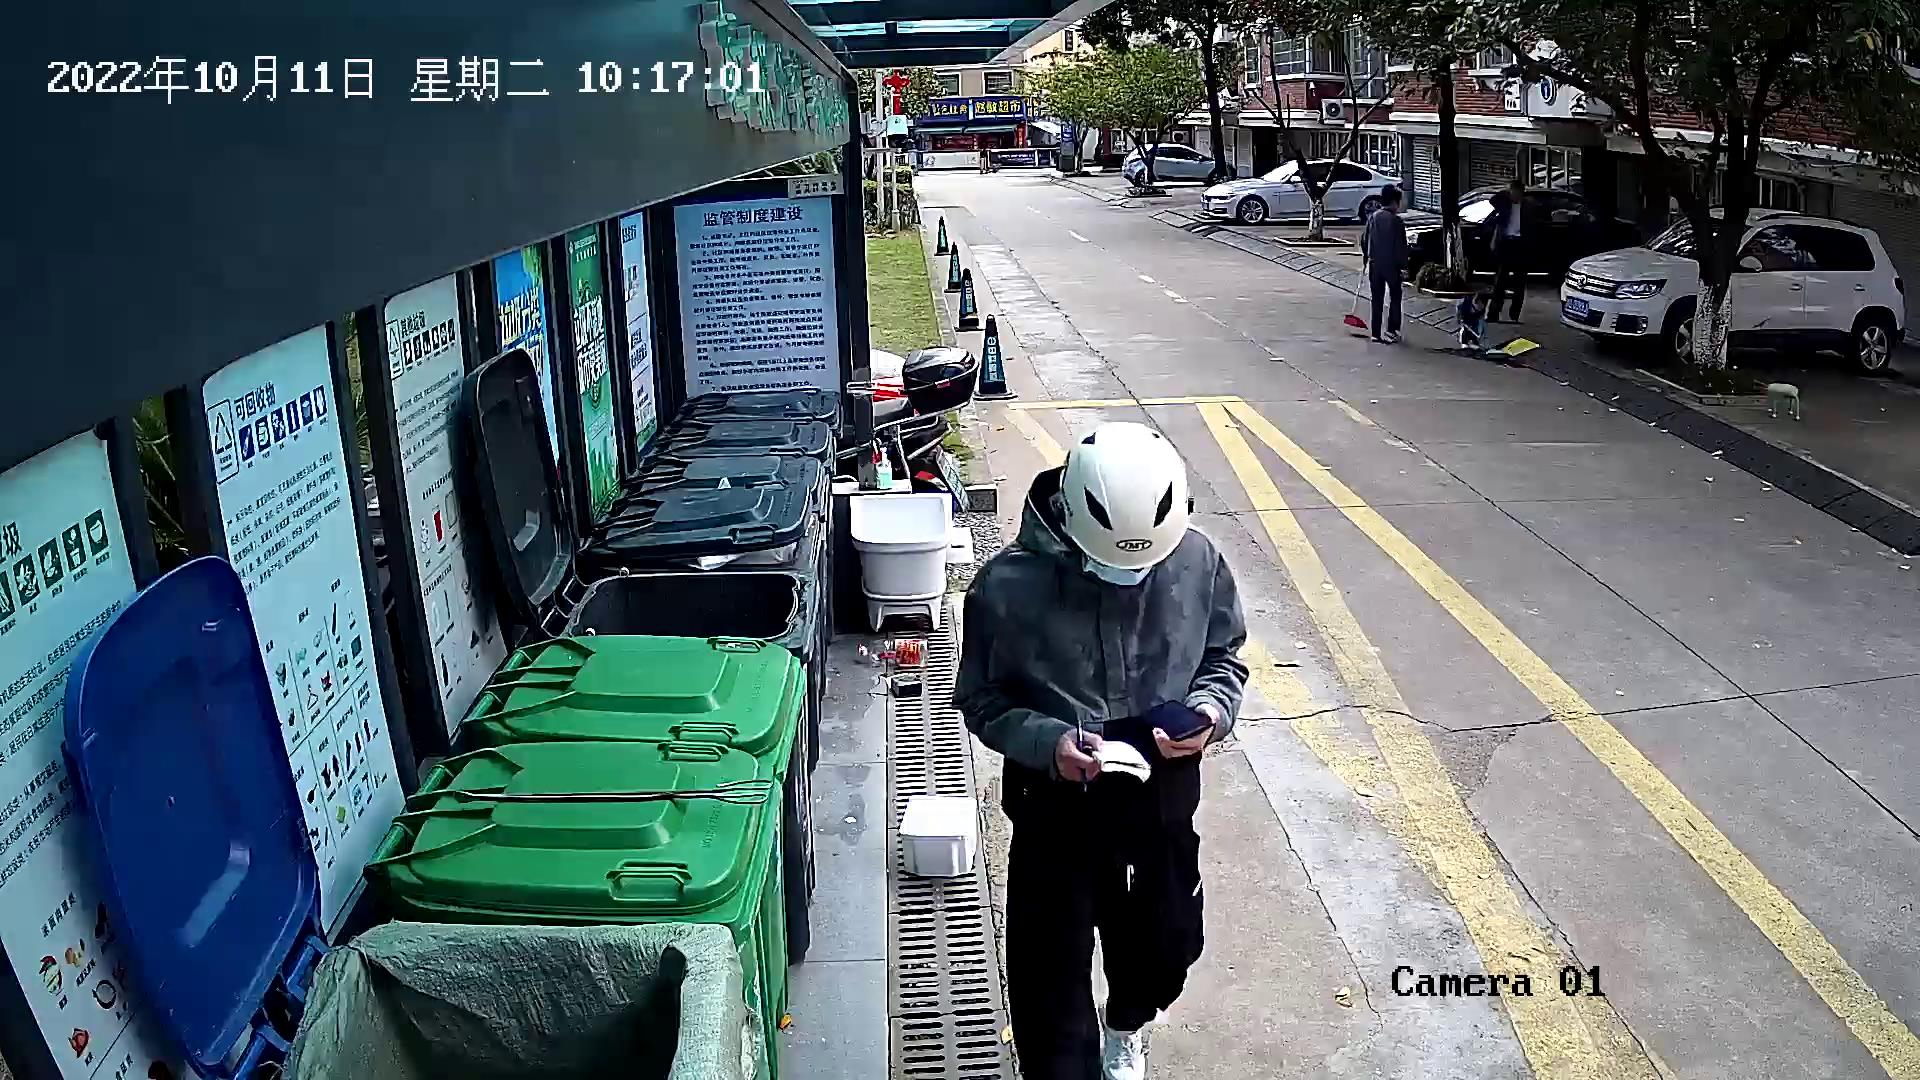paomozhipin: (893, 786, 988, 882)
person: (940, 414, 1265, 1080)
suliaozhipin: (855, 630, 937, 671)
zhizhipin: (868, 667, 930, 703)
